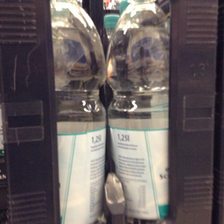water: (106, 1, 169, 223), (50, 1, 109, 224)
